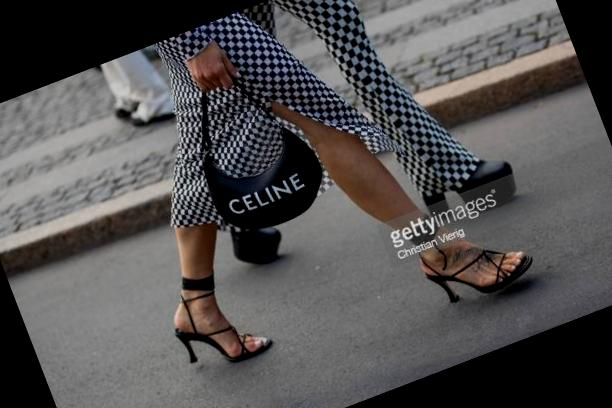CELINE: (226, 170, 307, 218)
